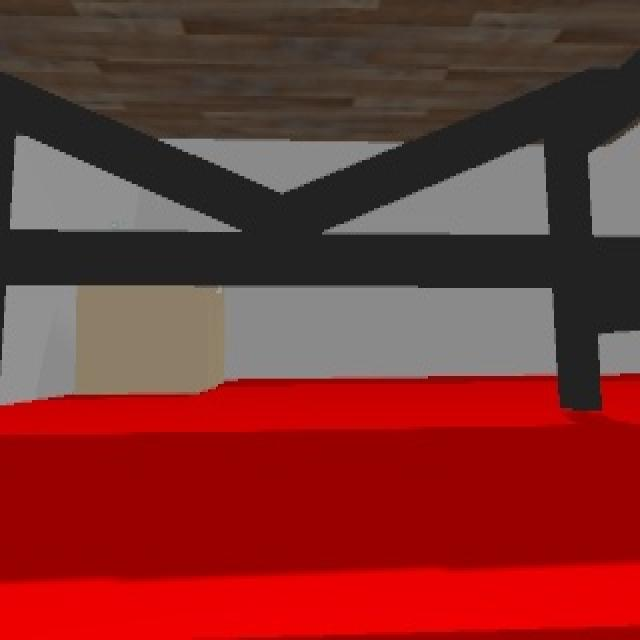dining: (1, 2, 640, 408)
